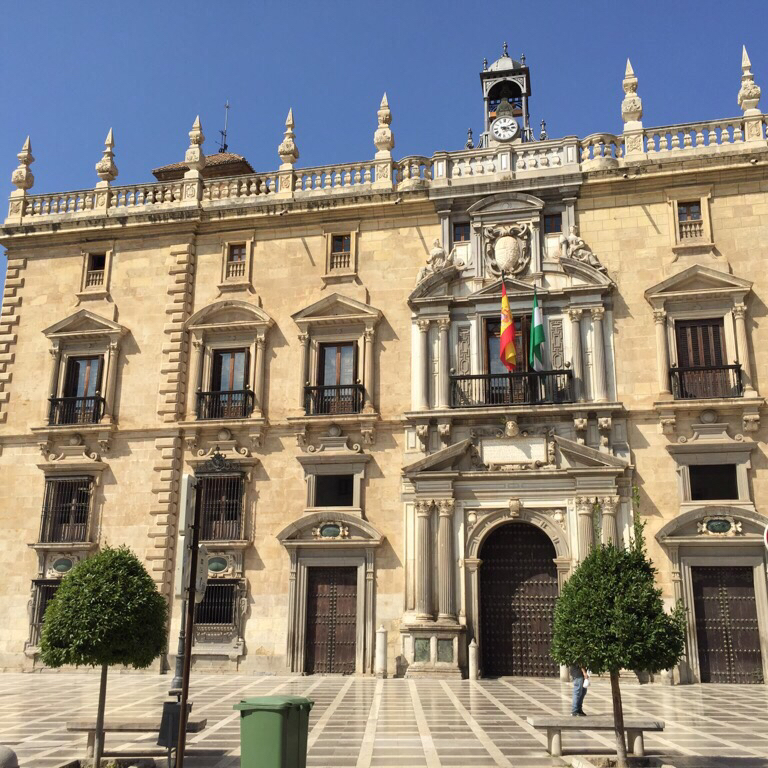arco-medio-punto: (472, 513, 563, 578)
fronton: (642, 264, 756, 301), (290, 293, 385, 325), (41, 308, 126, 339), (467, 275, 549, 302)
fronton-curvo: (658, 504, 768, 546), (276, 510, 385, 546), (183, 297, 273, 330), (465, 192, 546, 217)
fronton-partido: (398, 433, 634, 480), (407, 255, 613, 306)
vano-adintelado: (680, 553, 768, 686), (653, 309, 758, 398), (291, 554, 368, 675), (292, 331, 376, 417), (187, 338, 269, 422), (45, 349, 119, 426)
